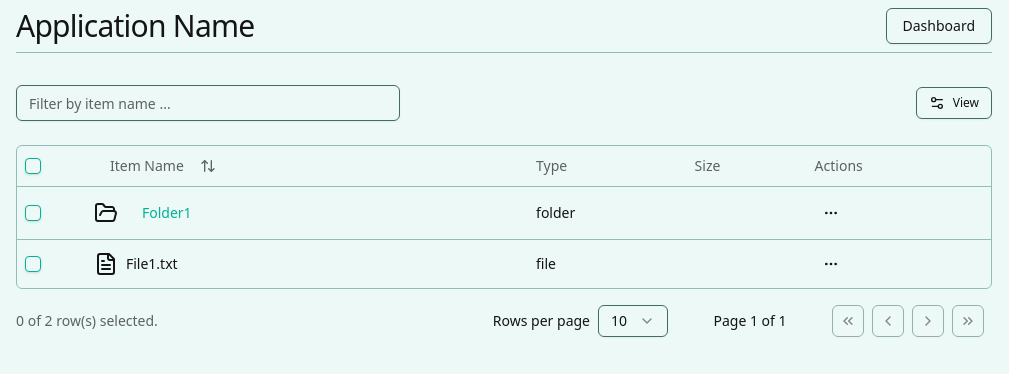
Scenario: ListUnstructuredData test cases › navigates to a folder when clicked
The image size is (1009, 374).
Click the button "Folder1": (167,212) [126,194,208,230]
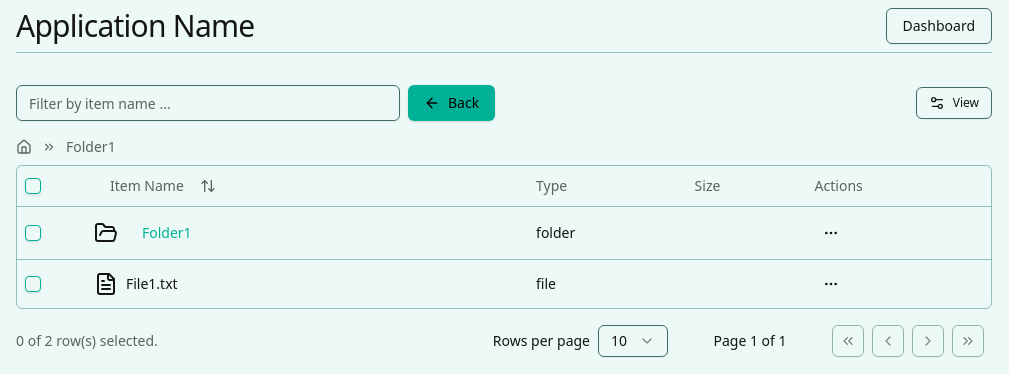
Expected: the button "Back" is shown, [408,85,495,121]
